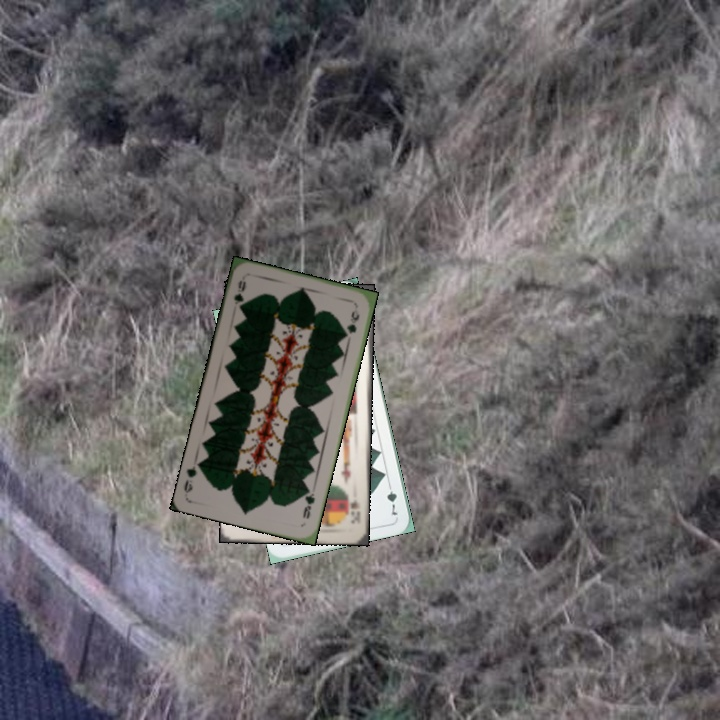G7: (383, 479, 400, 518)
G9: (298, 485, 317, 522), (230, 276, 248, 313)
SK: (346, 495, 364, 526)
